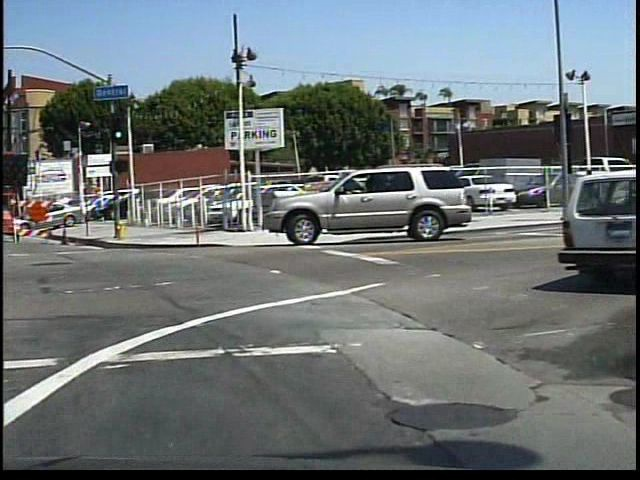person: (579, 163, 598, 213)
